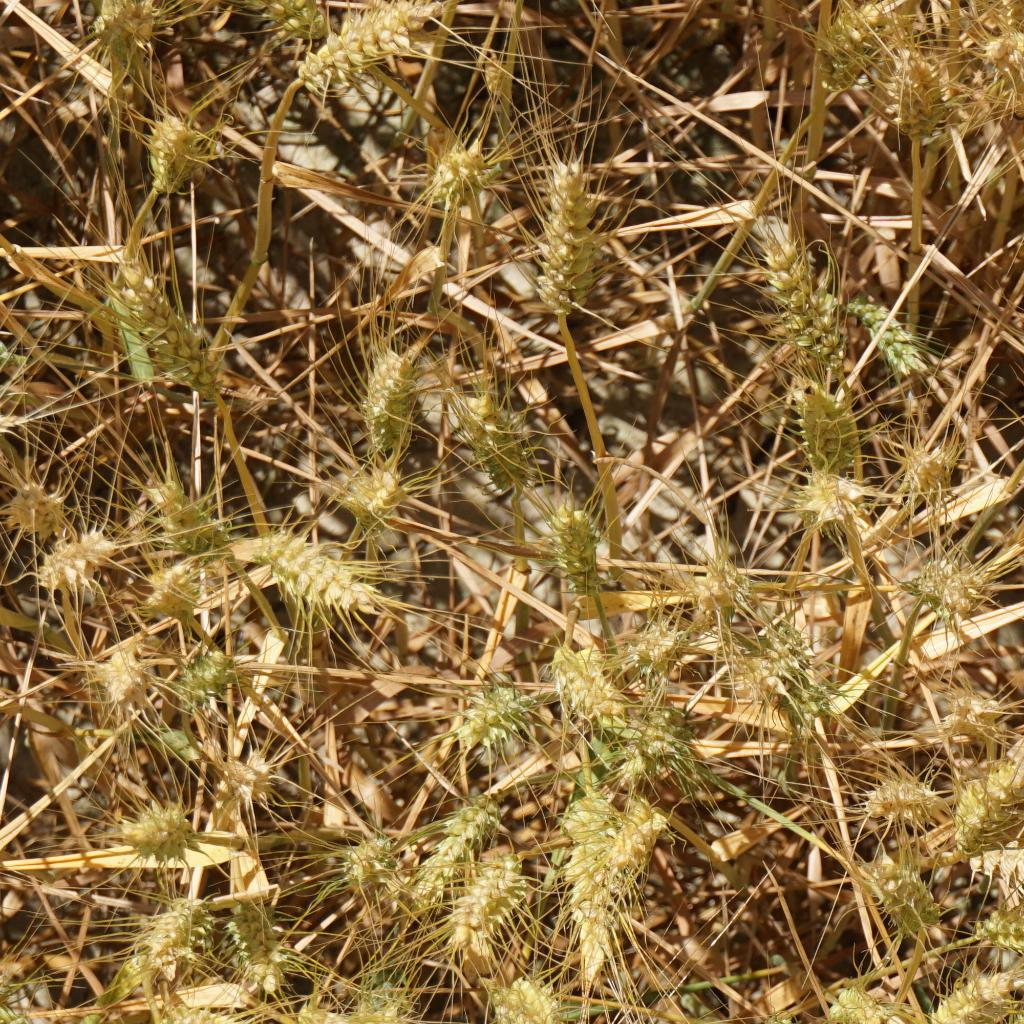0-0: (755, 227, 856, 385), (107, 263, 212, 401), (525, 159, 605, 308), (301, 10, 429, 103), (556, 793, 617, 969), (450, 375, 540, 491), (257, 542, 385, 623), (357, 342, 421, 463), (407, 788, 479, 894), (135, 478, 227, 560), (449, 870, 534, 958), (607, 809, 681, 907), (854, 294, 940, 375), (869, 850, 950, 935), (609, 706, 704, 775), (540, 507, 609, 599), (167, 644, 254, 716), (958, 764, 1024, 858), (536, 635, 604, 726), (818, 2, 891, 86), (907, 553, 998, 620), (39, 534, 130, 599), (448, 668, 525, 744), (883, 435, 956, 515), (888, 56, 948, 152), (227, 898, 284, 994), (423, 135, 494, 211), (146, 896, 210, 980), (920, 963, 1005, 1024), (335, 461, 409, 529), (788, 389, 854, 465), (741, 634, 809, 707), (138, 103, 201, 181), (609, 613, 688, 674), (118, 802, 188, 870), (205, 749, 287, 807), (805, 477, 867, 545), (870, 771, 944, 826), (337, 841, 399, 904), (0, 460, 53, 531), (88, 643, 146, 705), (486, 991, 593, 1024), (700, 542, 755, 606), (99, 0, 173, 46), (820, 975, 888, 1024), (145, 560, 194, 627), (971, 892, 1024, 952), (946, 688, 999, 747), (988, 16, 1024, 95), (296, 997, 386, 1024), (0, 333, 40, 379), (266, 0, 312, 38), (183, 1004, 261, 1024), (0, 983, 28, 1024), (747, 1007, 803, 1024), (1000, 999, 1024, 1024)
